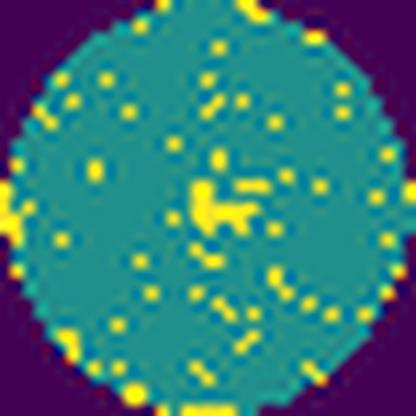Center: (186, 174, 265, 240)
